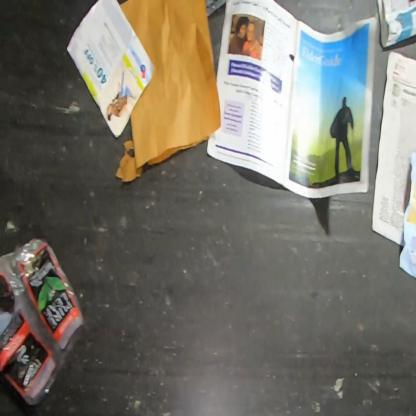soft_plastic: (0, 236, 87, 406)
